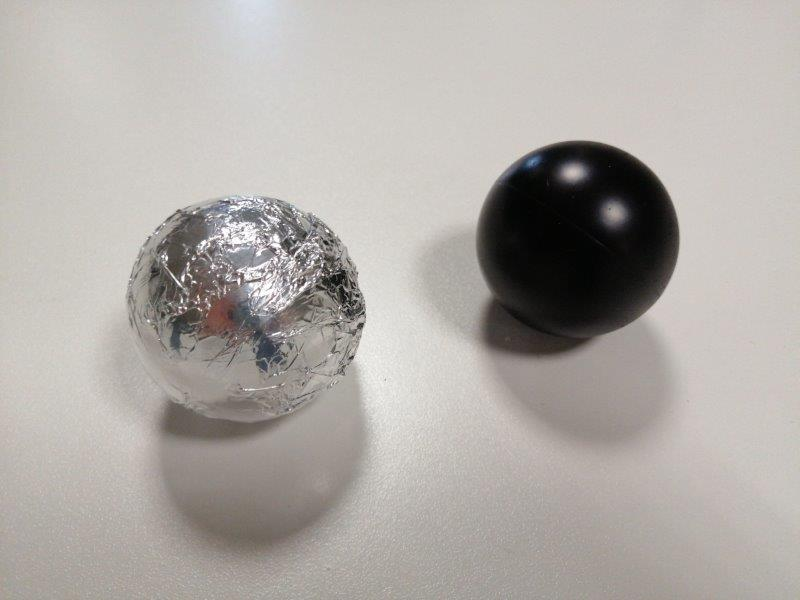bianca: (125, 193, 364, 423)
nera: (475, 139, 680, 340)
